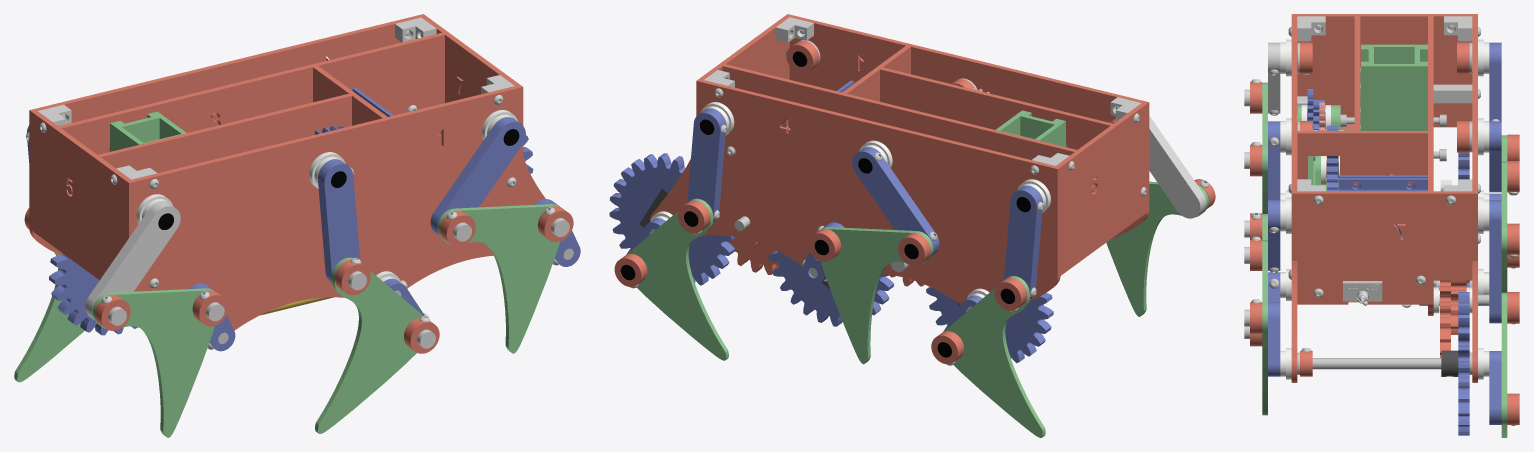
File: legged_walker.glb
The picture shows the model from 3 angles, left to right: view 1: azimuth 30°, elevation 25°; view 2: azimuth 150°, elevation 25°; view 3: azimuth 270°, elevation 25°; orthographic projection. The views are drawn at different scales.
Parts seen in each view (by area): view 1: Node8, Node13, Node1, Node14, Node4, Node5, Node10, Node17; view 2: Node8, Node13, Node1, Node4, Node14, Node17, Node10, Node5; view 3: Node8, Node1, Node13, Node4, Node10, Node5, Node14, Node12, Node2.
Part boxes in pixels (box(x1,y1,x2,y2)): Node8: box(29, 14, 545, 330); Node13: box(14, 111, 559, 437); Node1: box(26, 87, 580, 351); Node14: box(38, 17, 569, 348); Node4: box(24, 206, 573, 353); Node5: box(136, 110, 517, 281); Node10: box(26, 30, 573, 349); Node17: box(158, 129, 519, 229); Node8: box(650, 14, 1149, 304); Node13: box(626, 110, 1208, 437); Node1: box(609, 80, 1053, 363); Node4: box(614, 40, 1215, 364); Node14: box(704, 17, 1206, 218); Node17: box(620, 51, 1030, 357); Node10: box(630, 29, 1209, 365); Node5: box(650, 102, 1050, 298); Node8: box(1291, 14, 1477, 382); Node1: box(1268, 42, 1501, 435); Node13: box(1262, 44, 1507, 437); Node4: box(1250, 42, 1519, 424); Node10: box(1251, 24, 1518, 425); Node5: box(1280, 39, 1489, 379); Node14: box(1244, 16, 1472, 338); Node12: box(1441, 350, 1458, 376); Node2: box(1307, 89, 1338, 188).
Size of the model in its own units: 330 by 164 by 155.
